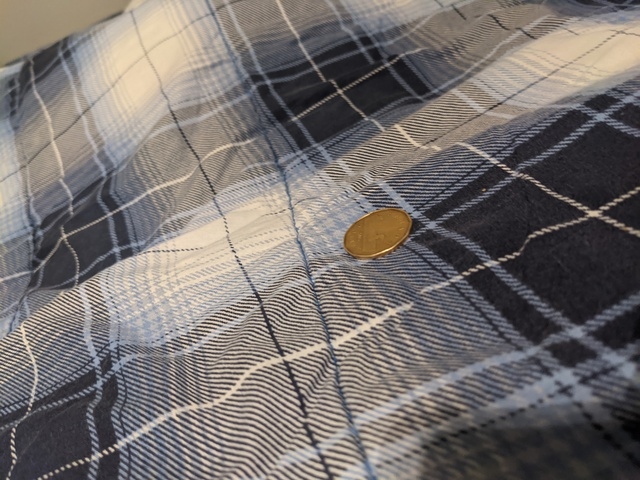loonie: (338, 199, 425, 257)
